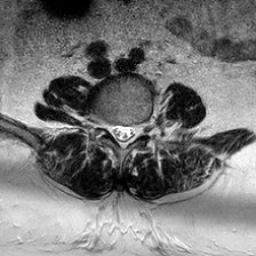CCS_normal: (118, 116, 128, 158)
LFS_normal: (136, 112, 144, 145)
LLS_normal: (128, 116, 136, 150)
RFS_normal: (101, 110, 109, 137)
RLS_normal: (109, 115, 118, 150)
